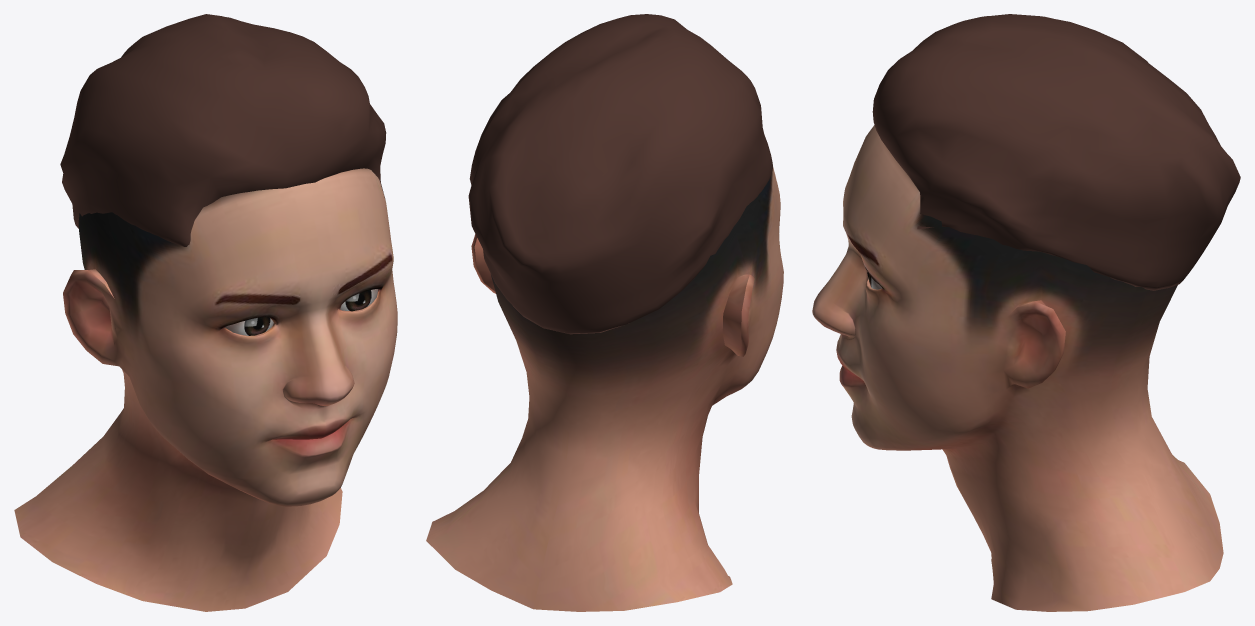
Rendered from man-GSB-4-Head.fbx.
The picture shows the model from 3 angles, left to right: view 1: azimuth 30°, elevation 25°; view 2: azimuth 150°, elevation 25°; view 3: azimuth 270°, elevation 25°; orthographic projection. The views are drawn at different scales.
Parts seen in each view (by area): view 1: Wolf3D_Head, Wolf3D_Hair, EyeRight, EyeLeft; view 2: Wolf3D_Head, Wolf3D_Hair; view 3: Wolf3D_Head, Wolf3D_Hair.
Part boxes in pixels (box(x1,y1,x2,y2)): Wolf3D_Head: box(14, 168, 397, 611); Wolf3D_Hair: box(60, 14, 386, 246); EyeRight: box(225, 316, 273, 335); EyeLeft: box(340, 289, 378, 311); Wolf3D_Head: box(426, 167, 783, 611); Wolf3D_Hair: box(468, 14, 772, 334); Wolf3D_Head: box(812, 125, 1223, 611); Wolf3D_Hair: box(872, 14, 1240, 290).
Size of the model in its own units: 19.19 by 33.5 by 23.46.
